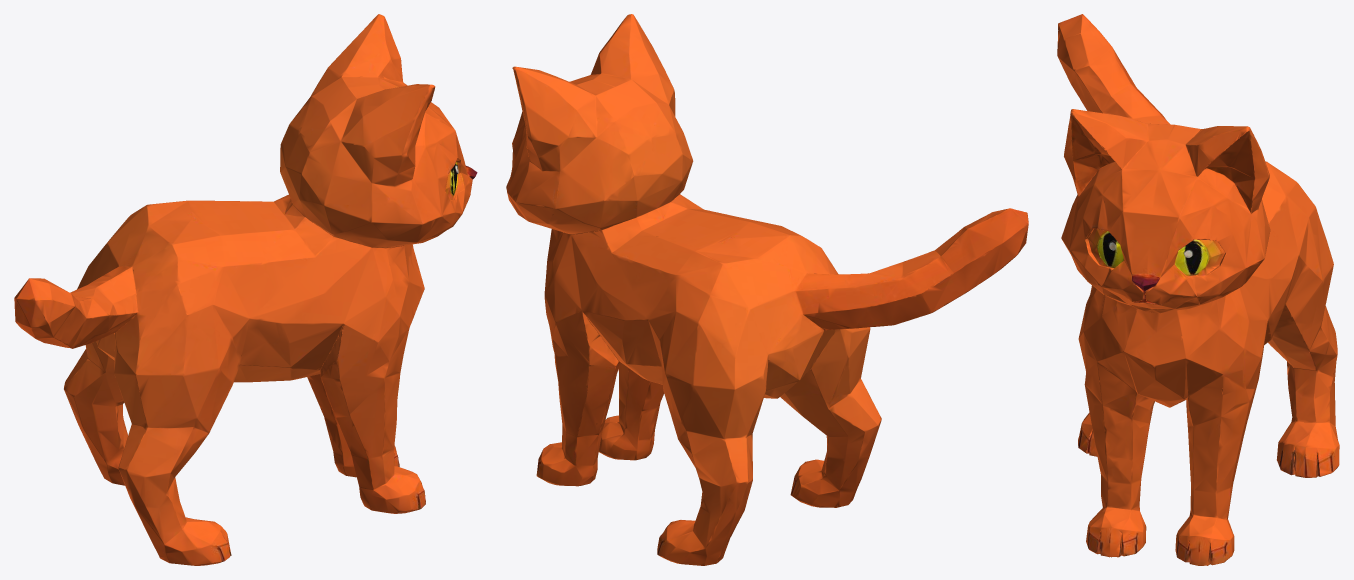
File: COTTAPAW.glb
3 views of the same model, side by side, from view 1: azimuth 30°, elevation 25°; view 2: azimuth 150°, elevation 25°; view 3: azimuth 270°, elevation 25° (orthographic). The views are drawn at different scales.
Visible parts, largest first — view 1: fit; view 2: fit; view 3: fit.
Boxes of the visible parts, x1=… form: fit: x1=14, y1=14, x2=477, y2=565; fit: x1=506, y1=14, x2=1028, y2=565; fit: x1=1057, y1=14, x2=1339, y2=565.
Size of the model in its own units: 1.2 by 1 by 0.577.
1 material, 1 textured.
